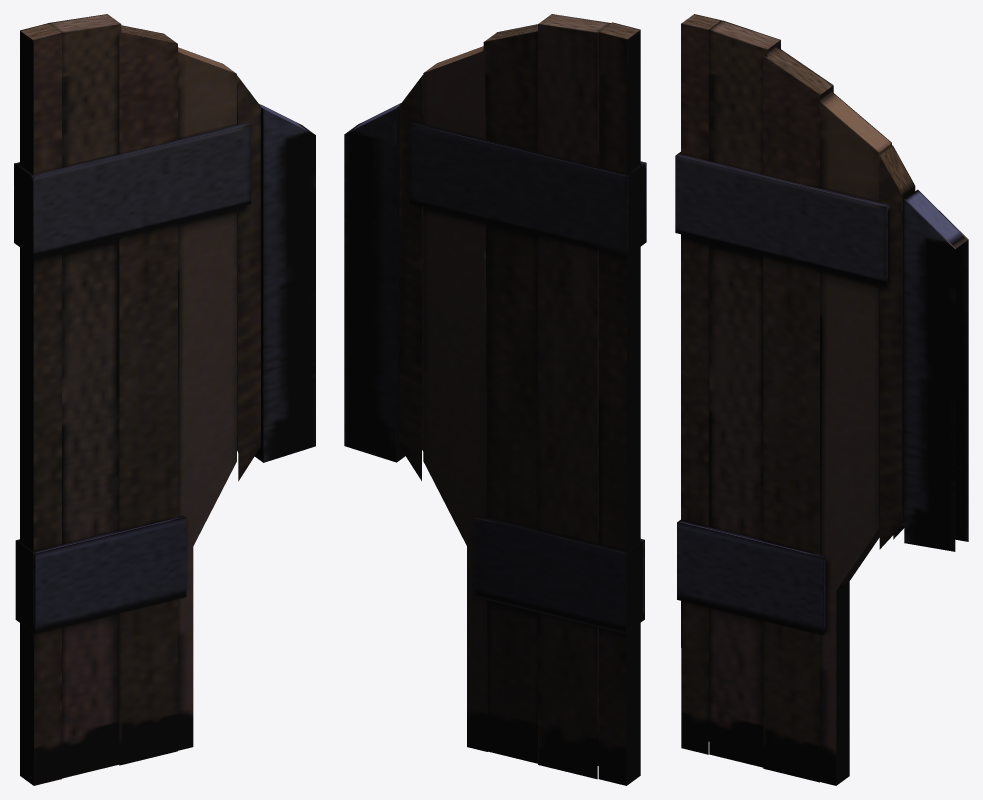
File: DoorSide2_1.obj
The picture shows the model from 3 angles, left to right: view 1: azimuth 30°, elevation 25°; view 2: azimuth 150°, elevation 25°; view 3: azimuth 330°, elevation 25°; orthographic projection. The views are drawn at different scales.
Parts seen in each view (by area): view 1: Cube.028_Cube.425; view 2: Cube.028_Cube.425; view 3: Cube.028_Cube.425.
Part boxes in pixels (left/top/right/bottom): Cube.028_Cube.425: left=14, top=14, right=315, bottom=785; Cube.028_Cube.425: left=344, top=14, right=646, bottom=785; Cube.028_Cube.425: left=675, top=14, right=968, bottom=785.
Bounding box in the file's own units: 107 × 268 × 12.66.
1 material, 1 textured.
